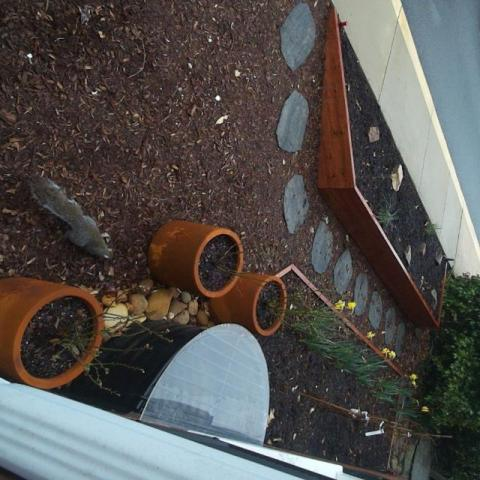small_animal: (31, 175, 117, 262)
